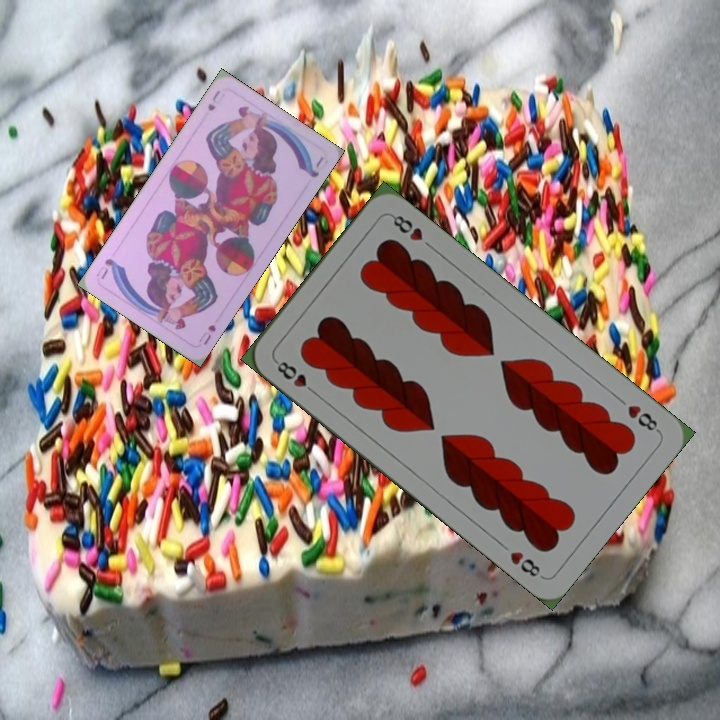H8: (271, 356, 320, 398), (623, 400, 663, 435)
SU: (194, 320, 219, 348), (203, 86, 224, 114)
